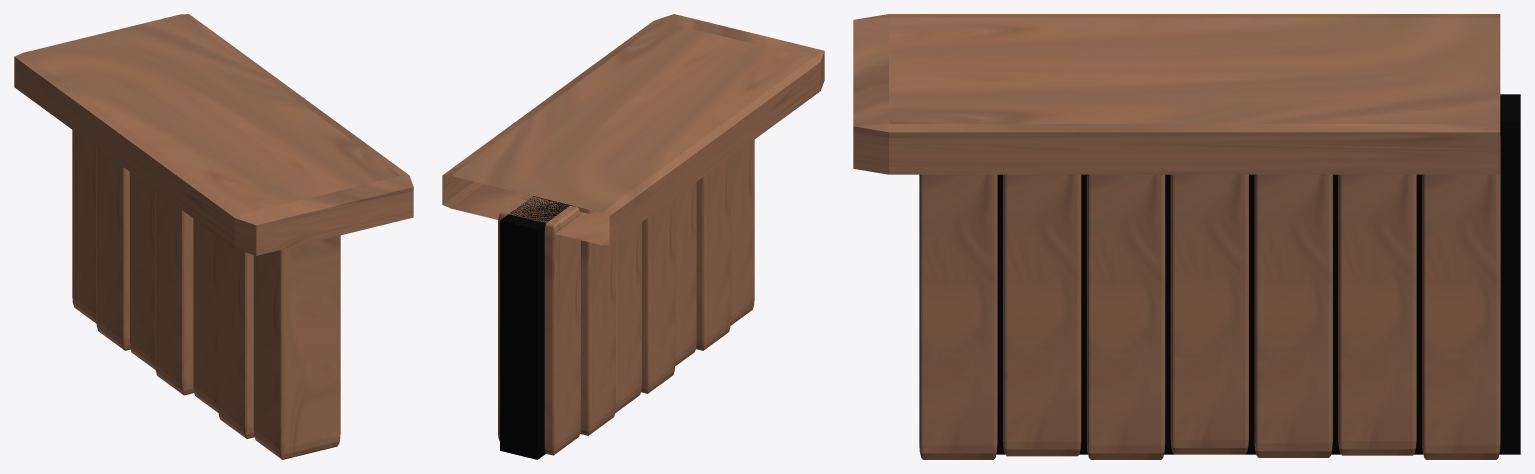
File: tavern_bar_counter.fbx
3 views of the same model, side by side, from view 1: azimuth 30°, elevation 25°; view 2: azimuth 150°, elevation 25°; view 3: azimuth 270°, elevation 25° (orthographic). The views are drawn at different scales.
Visible parts, largest first — view 1: Cube.002; view 2: Cube.002; view 3: Cube.002.
Part boxes in pixels (x1,y1,x2,y2): Cube.002: (14,14,413,459); Cube.002: (442,14,824,459); Cube.002: (853,14,1520,459).
Size of the model in its own units: 1.52 by 3.62 by 2.22.
2 materials, 1 textured.
